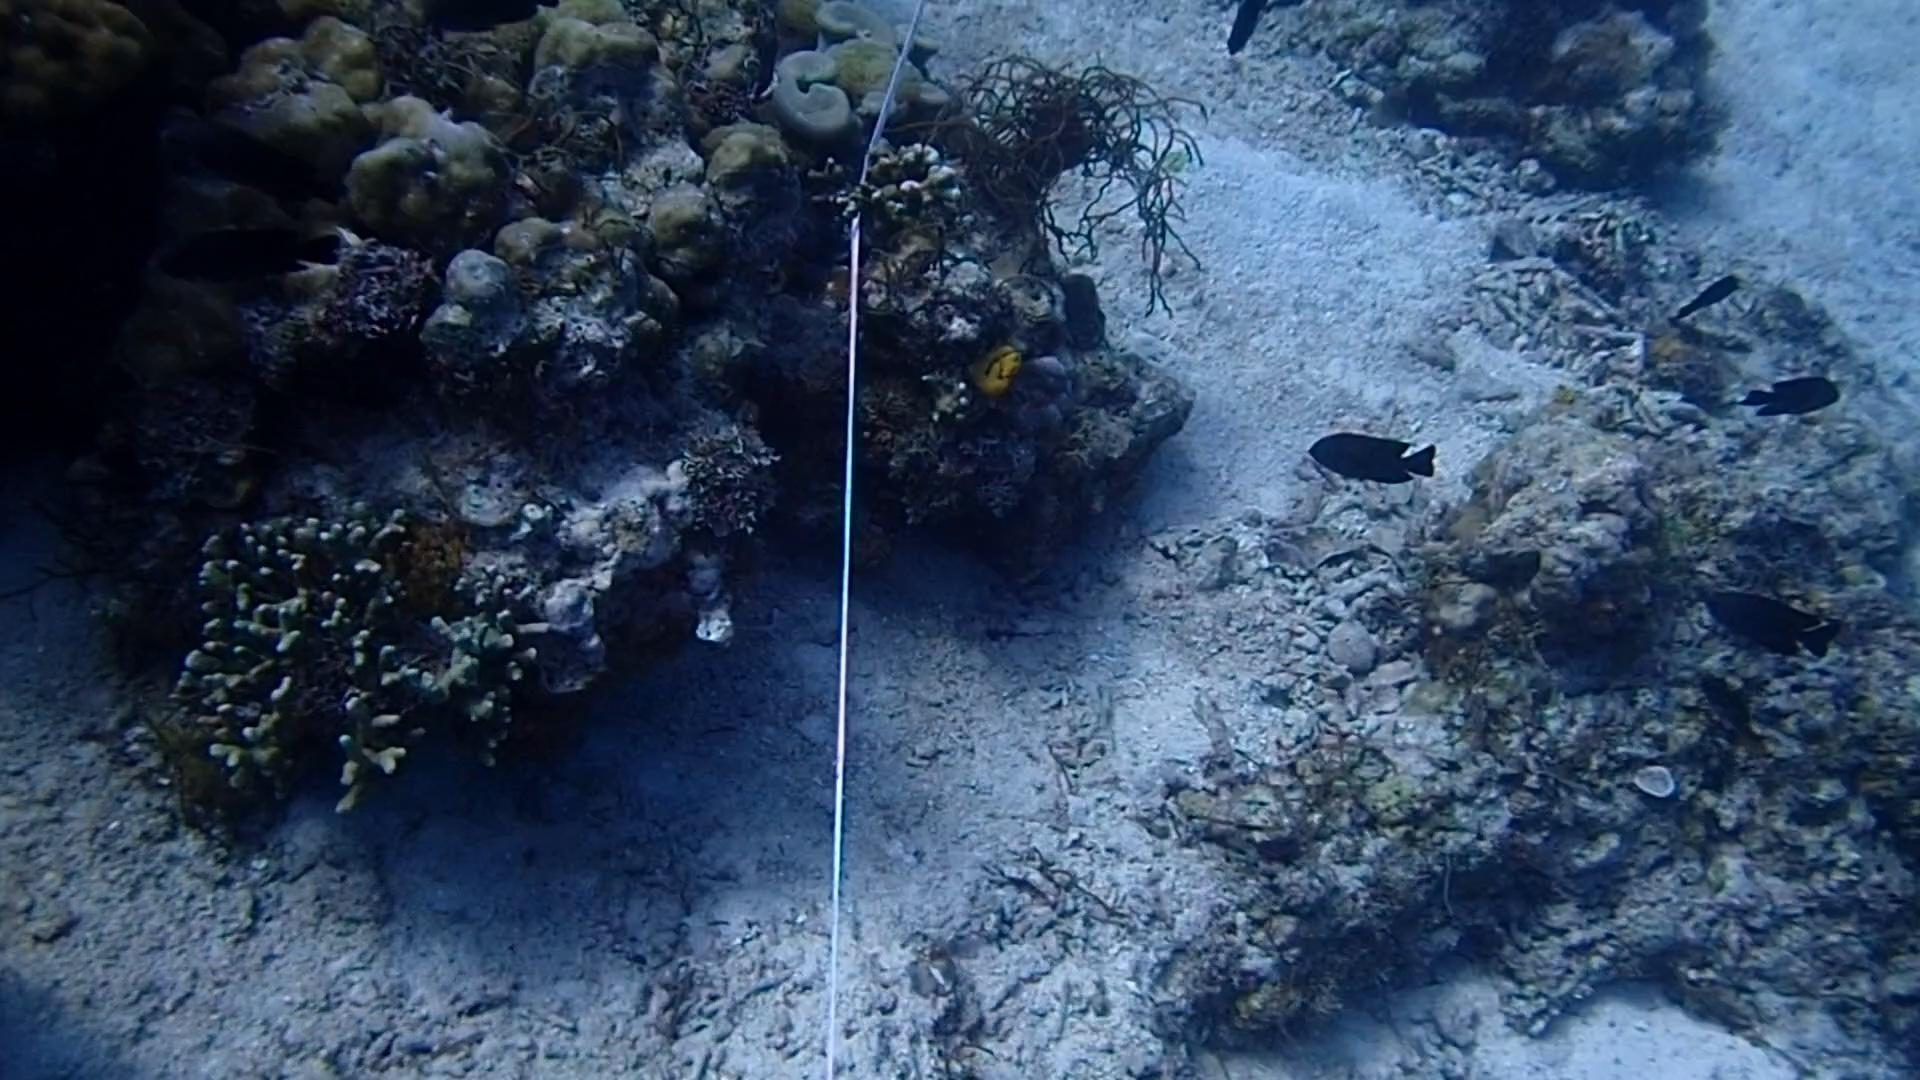Dark Fish: (1696, 567, 1850, 678), (1296, 421, 1432, 492), (1677, 659, 1785, 748), (1725, 355, 1857, 425), (1665, 265, 1760, 316)
